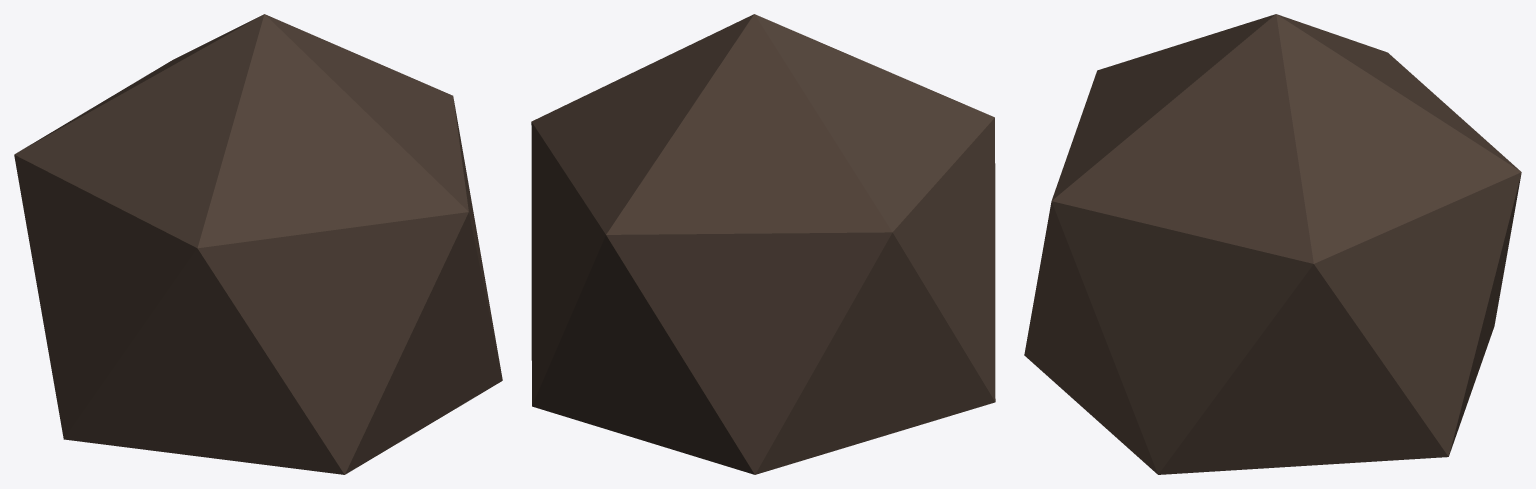
Rendered from Rock_Debris.fbx.
3 renders of one model, left to right at view 1: azimuth 30°, elevation 25°; view 2: azimuth 150°, elevation 25°; view 3: azimuth 270°, elevation 25°, orthographic. The views are drawn at different scales.
Parts seen in each view (by area): view 1: pPlatonic1; view 2: pPlatonic1; view 3: pPlatonic1.
Boxes of the visible parts, <box> form: pPlatonic1: <box>14,14,502,474</box>; pPlatonic1: <box>531,14,995,474</box>; pPlatonic1: <box>1024,14,1521,474</box>.
Bounding box in the file's own units: 1.79 × 1.47 × 1.78.
